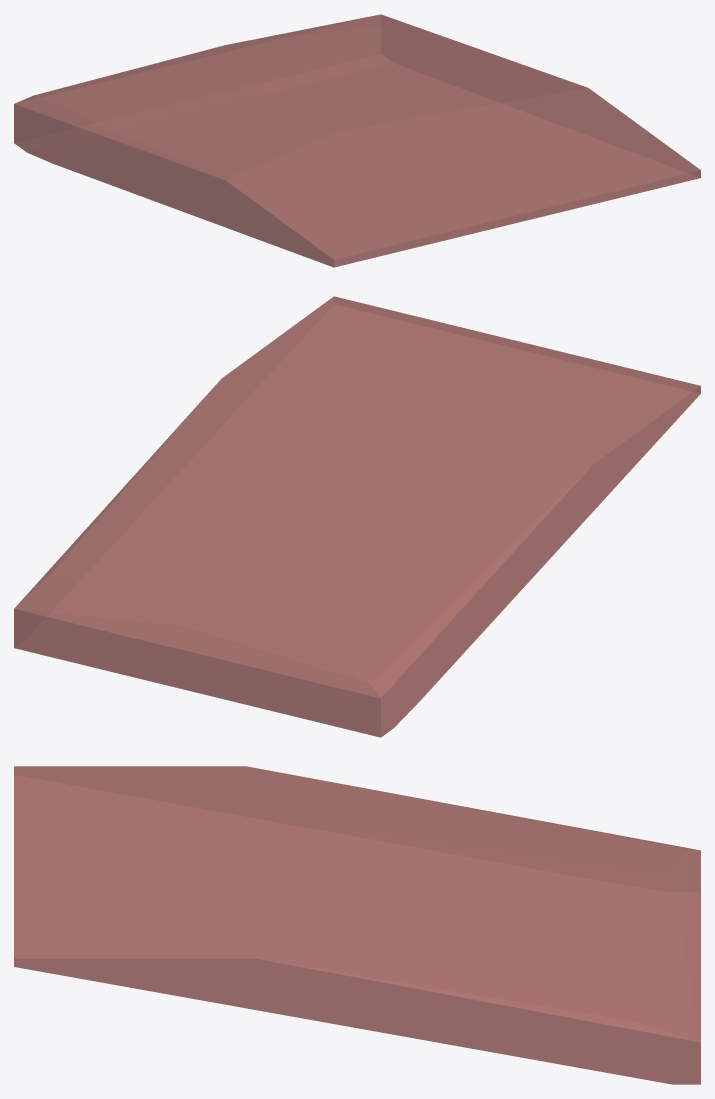
3 views of the same model, one above another, from view 1: azimuth 30°, elevation 25°; view 2: azimuth 150°, elevation 25°; view 3: azimuth 270°, elevation 25° (orthographic). The views are drawn at different scales.
Parts seen in each view (by area): view 1: Shape_IndexedFaceSet.046_Shape_IndexedFaceSet.644; view 2: Shape_IndexedFaceSet.046_Shape_IndexedFaceSet.644; view 3: Shape_IndexedFaceSet.046_Shape_IndexedFaceSet.644.
Boxes of the visible parts, x1,y1,x2,y2 form: Shape_IndexedFaceSet.046_Shape_IndexedFaceSet.644: (14, 14, 700, 267); Shape_IndexedFaceSet.046_Shape_IndexedFaceSet.644: (14, 296, 700, 737); Shape_IndexedFaceSet.046_Shape_IndexedFaceSet.644: (14, 766, 700, 1084).
Bounding box in the file's own units: 0.0913 × 0.0279 × 0.1379.
